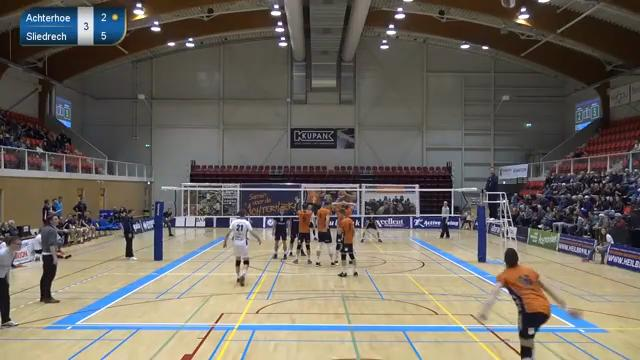Player: (478, 248, 580, 359), (223, 209, 260, 285), (338, 209, 357, 276), (293, 205, 312, 263), (316, 203, 332, 265), (272, 206, 289, 259), (287, 207, 298, 256), (361, 216, 381, 242), (332, 231, 343, 264)
ball: (501, 0, 517, 9)
